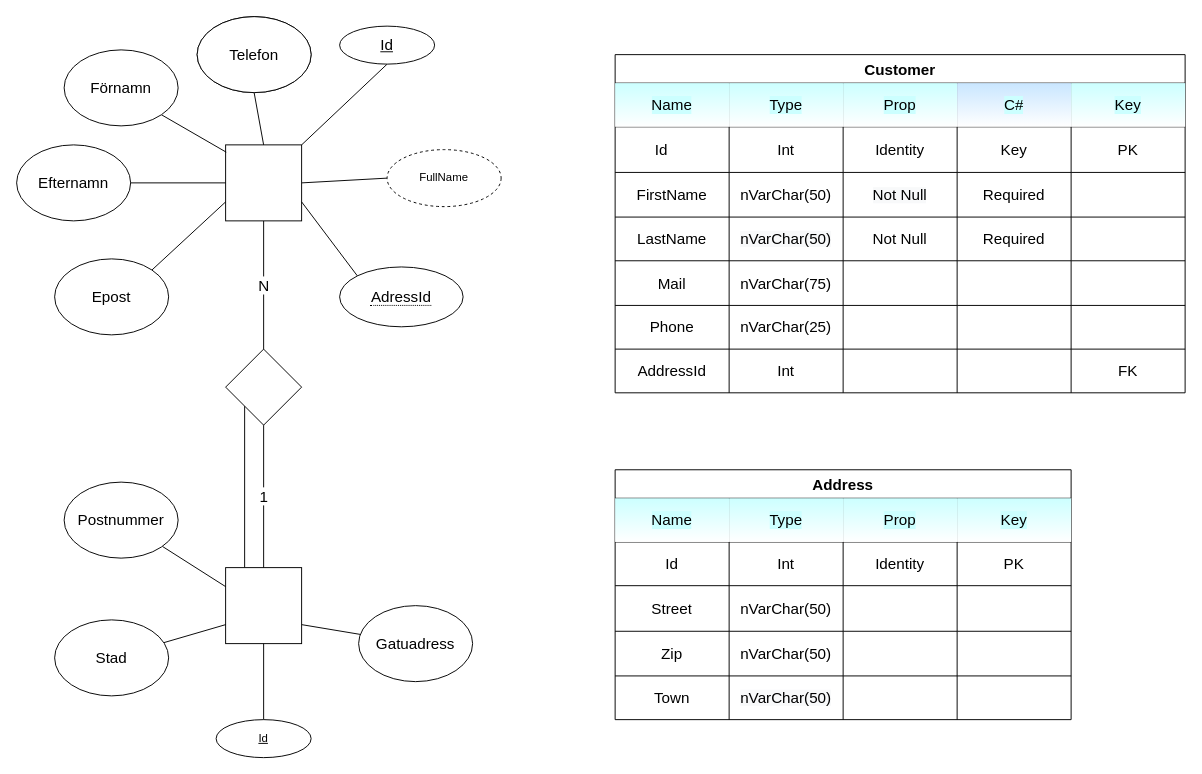
Some shapes in this 1202 by 774 pixel diagram are drawn without their labels. Here are the shapes that lost their labels. From the top down, the centre of each, then its label:
(263,182): Kund
(263,605): Adress
